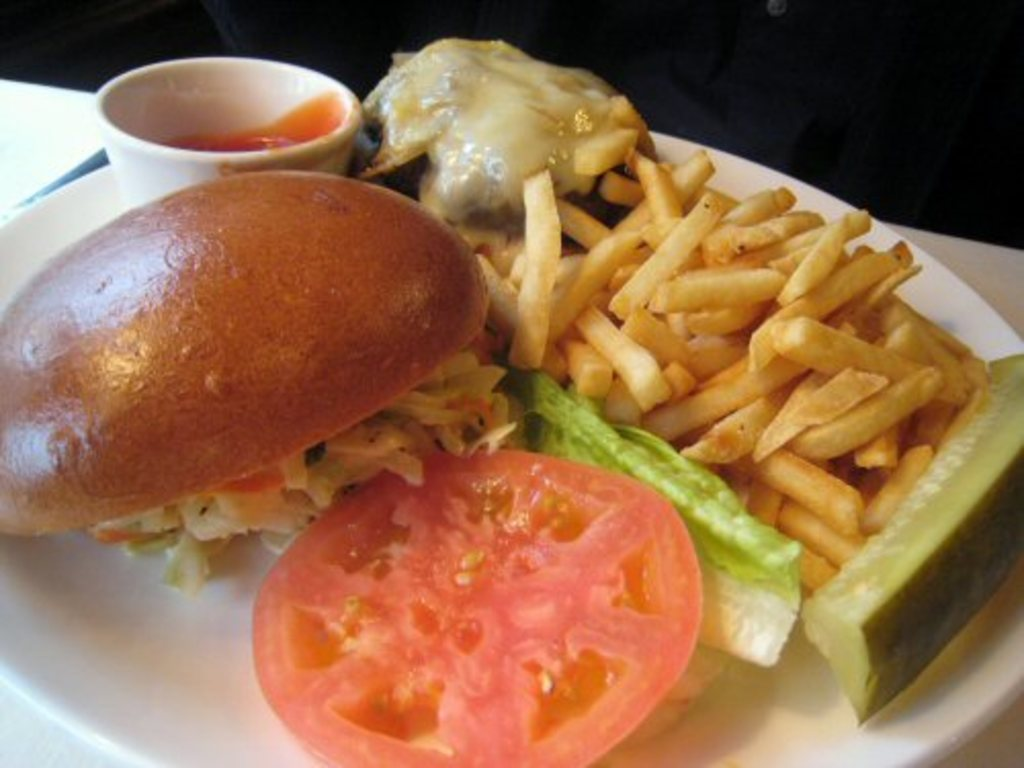French fries: (491, 124, 1007, 589)
